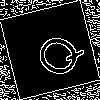Q: (25, 25, 87, 84)
